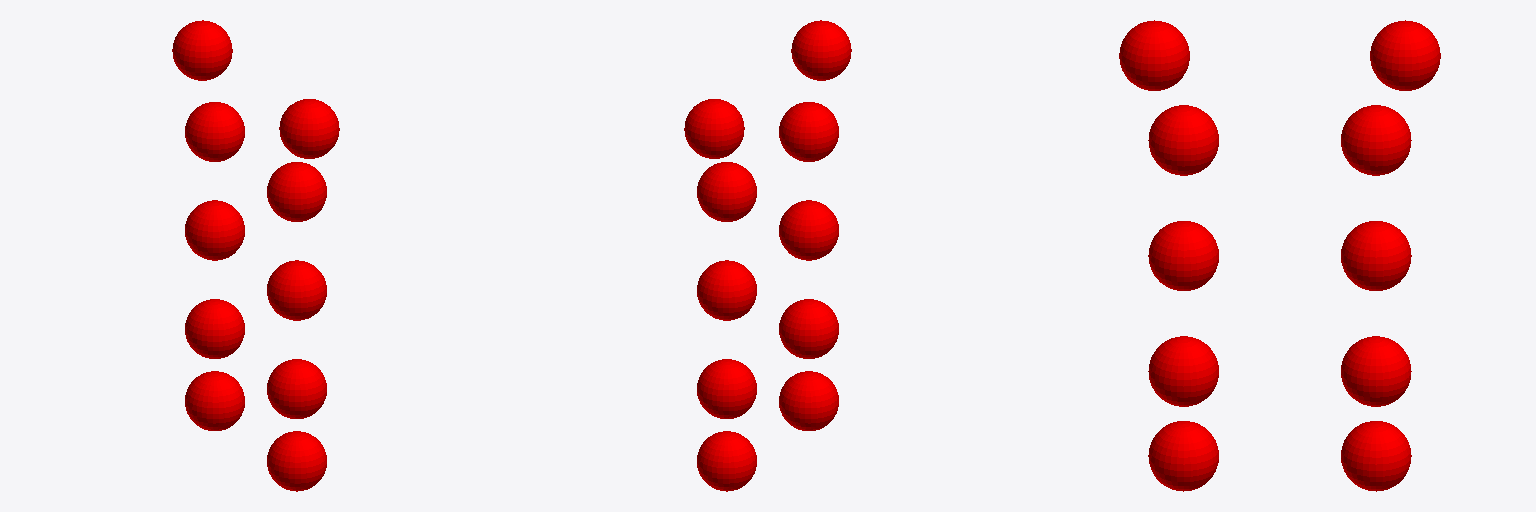
URDF robot description (urdf_ugot_human):
<?xml version="1.0" encoding="utf-8"?>
<robot
  name="urdf_ugot_human">
  <link name="world"/>
  <link
    name="base_link">
  </link>
  <joint name="floating_joint" type="floating"> <!--添加虚拟关节，将机器人模型连接到世界上的固定点-->
    <parent link="world"/>
    <child link="base_link"/> <!--起始位置设为(0, 0, 0)，与父链接原点重合-->
    <origin xyz="0 0 0" rpy="0 0 0"/>
  </joint>
  <link
    name="left_hip_roll_link">
    <visual>
      <geometry>
        <sphere radius="0.02"/>
      </geometry>
      <origin rpy="0 0 0" xyz="0 0 0"/>
      <material name="red">
        <color rgba="1.0 0.0 0.0 1.0"/>
      </material>
    </visual>
  </link>
  <joint
    name="left_hip_roll_joint"
    type="revolute">
    <origin
      xyz="0 0.0708 0"
      rpy="0 0 0" />
    <parent
      link="base_link" />
    <child
      link="left_hip_roll_link" />
    <axis
      xyz="1 0 0" />
    <limit
      lower="-3.14"
      upper="3.14"
      effort="1000"
      velocity="1000" />
  </joint>
  <link
    name="left_hip_pitch_link">
    <visual>
      <geometry>
        <sphere radius="0.02"/>
      </geometry>
      <origin rpy="0 0 0" xyz="0 0 0"/>
      <material name="red">
        <color rgba="1.0 0.0 0.0 1.0"/>
      </material>
    </visual>
  </link>
  <joint
    name="left_hip_pitch_joint"
    type="revolute">
    <origin
      xyz="0 -0.0165 -0.0527"
      rpy="0 0 0" />
    <parent
      link="left_hip_roll_link" />
    <child
      link="left_hip_pitch_link" />
    <axis
      xyz="0 1 0" />
    <limit
      lower="-3.14"
      upper="3.14"
      effort="1000"
      velocity="1000" />
  </joint>
  <link
    name="left_knee_pitch_link">
    <visual>
      <geometry>
        <sphere radius="0.02"/>
      </geometry>
      <origin rpy="0 0 0" xyz="0 0 0"/>
      <material name="red">
        <color rgba="1.0 0.0 0.0 1.0"/>
      </material>
    </visual>
  </link>
  <joint
    name="left_knee_pitch_joint"
    type="revolute">
    <origin
      xyz="0 0 -0.072"
      rpy="0 0 0" />
    <parent
      link="left_hip_pitch_link" />
    <child
      link="left_knee_pitch_link" />
    <axis
      xyz="0 1 0" />
    <limit
      lower="-3.14"
      upper="3.14"
      effort="1000"
      velocity="1000" />
  </joint>
  <link
    name="left_ankle_pitch_link">
    <visual>
      <geometry>
        <sphere radius="0.02"/>
      </geometry>
      <origin rpy="0 0 0" xyz="0 0 0"/>
      <material name="red">
        <color rgba="1.0 0.0 0.0 1.0"/>
      </material>
    </visual>
  </link>
  <joint
    name="left_ankle_pitch_joint"
    type="revolute">
    <origin
      xyz="0 0 -0.072"
      rpy="0 0 0" />
    <parent
      link="left_knee_pitch_link" />
    <child
      link="left_ankle_pitch_link" />
    <axis
      xyz="0 1 0" />
    <limit
      lower="-3.14"
      upper="3.14"
      effort="1000"
      velocity="1000" />
  </joint>
  <link
    name="left_ankle_roll_link">
    <visual>
      <geometry>
        <sphere radius="0.02"/>
      </geometry>
      <origin rpy="0 0 0" xyz="0 0 0"/>
      <material name="red">
        <color rgba="1.0 0.0 0.0 1.0"/>
      </material>
    </visual>
  </link>
  <joint
    name="left_ankle_roll_joint"
    type="revolute">
    <origin
      xyz="0 0 -0.0527"
      rpy="0 0 0" />
    <parent
      link="left_ankle_pitch_link" />
    <child
      link="left_ankle_roll_link" />
    <axis
      xyz="1 0 0" />
    <limit
      lower="-3.14"
      upper="3.14"
      effort="1000"
      velocity="1000" />
  </joint>
  
  <link
    name="right_hip_roll_link">
    <visual>
      <geometry>
        <sphere radius="0.02"/>
      </geometry>
      <origin rpy="0 0 0" xyz="0 0 0"/>
      <material name="red">
        <color rgba="1.0 0.0 0.0 1.0"/>
      </material>
    </visual>
  </link>
  <joint
    name="right_hip_roll_joint"
    type="revolute">
    <origin
      xyz="0 -0.0708 0"
      rpy="0 0 0" />
    <parent
      link="base_link" />
    <child
      link="right_hip_roll_link" />
    <axis
      xyz="1 0 0" />
    <limit
      lower="-3.14"
      upper="3.14"
      effort="1000"
      velocity="1000" />
  </joint>
  <link
    name="right_hip_pitch_link">
    <visual>
      <geometry>
        <sphere radius="0.02"/>
      </geometry>
      <origin rpy="0 0 0" xyz="0 0 0"/>
      <material name="red">
        <color rgba="1.0 0.0 0.0 1.0"/>
      </material>
    </visual>
  </link>
  <joint
    name="right_hip_pitch_joint"
    type="revolute">
    <origin
      xyz="0 0.0165 -0.0527"
      rpy="0 0 0" />
    <parent
      link="right_hip_roll_link" />
    <child
      link="right_hip_pitch_link" />
    <axis
      xyz="0 1 0" />
    <limit
      lower="-3.14"
      upper="3.14"
      effort="1000"
      velocity="1000" />
  </joint>
  <link
    name="right_knee_pitch_link">
    <visual>
      <geometry>
        <sphere radius="0.02"/>
      </geometry>
      <origin rpy="0 0 0" xyz="0 0 0"/>
      <material name="red">
        <color rgba="1.0 0.0 0.0 1.0"/>
      </material>
    </visual>
  </link>
  <joint
    name="right_knee_pitch_joint"
    type="revolute">
    <origin
      xyz="0 0 -0.072"
      rpy="0 0 0" />
    <parent
      link="right_hip_pitch_link" />
    <child
      link="right_knee_pitch_link" />
    <axis
      xyz="0 1 0" />
    <limit
      lower="-3.14"
      upper="3.14"
      effort="1000"
      velocity="1000" />
  </joint>
  <link
    name="right_ankle_pitch_link">
    <visual>
      <geometry>
        <sphere radius="0.02"/>
      </geometry>
      <origin rpy="0 0 0" xyz="0 0 0"/>
      <material name="red">
        <color rgba="1.0 0.0 0.0 1.0"/>
      </material>
    </visual>
  </link>
  <joint
    name="right_ankle_pitch_joint"
    type="revolute">
    <origin
      xyz="0 0 -0.072"
      rpy="0 0 0" />
    <parent
      link="right_knee_pitch_link" />
    <child
      link="right_ankle_pitch_link" />
    <axis
      xyz="0 1 0" />
    <limit
      lower="-3.14"
      upper="3.14"
      effort="1000"
      velocity="1000" />
  </joint>
  <link
    name="right_ankle_roll_link">
    <visual>
      <geometry>
        <sphere radius="0.02"/>
      </geometry>
      <origin rpy="0 0 0" xyz="0 0 0"/>
      <material name="red">
        <color rgba="1.0 0.0 0.0 1.0"/>
      </material>
    </visual>
  </link>
  <joint
    name="right_ankle_roll_joint"
    type="revolute">
    <origin
      xyz="0 0 -0.0527"
      rpy="0 0 0" />
    <parent
      link="right_ankle_pitch_link" />
    <child
      link="right_ankle_roll_link" />
    <axis
      xyz="1 0 0" />
    <limit
      lower="-3.14"
      upper="3.14"
      effort="1000"
      velocity="1000" />
  </joint>
</robot>
    

--- Facts derived from the render (not from the file) ---
The picture shows the robot from 3 angles, left to right: view 1: azimuth 30°, elevation 25°; view 2: azimuth 150°, elevation 25°; view 3: azimuth 270°, elevation 25°; orthographic projection.
Model urdf_ugot_human with 12 links and 11 joints (10 revolute, 1 floating), rooted at world, posed all joints at 0.
Links seen in each view (by area): view 1: right_knee_pitch_link, right_ankle_pitch_link, right_ankle_roll_link, left_hip_pitch_link, left_ankle_roll_link, right_hip_pitch_link, left_hip_roll_link, left_knee_pitch_link, left_ankle_pitch_link, right_hip_roll_link; view 2: left_knee_pitch_link, left_ankle_pitch_link, left_ankle_roll_link, left_hip_pitch_link, right_hip_pitch_link, right_ankle_roll_link, right_hip_roll_link, right_knee_pitch_link, right_ankle_pitch_link, left_hip_roll_link; view 3: left_hip_pitch_link, left_ankle_pitch_link, right_hip_pitch_link, right_ankle_pitch_link, left_hip_roll_link, right_hip_roll_link, left_ankle_roll_link, right_ankle_roll_link, left_knee_pitch_link, right_knee_pitch_link.
Boxes of the visible links, x1=… form: right_knee_pitch_link: x1=267, y1=260, x2=326, y2=320; right_ankle_pitch_link: x1=267, y1=359, x2=326, y2=418; right_ankle_roll_link: x1=267, y1=431, x2=326, y2=491; left_hip_pitch_link: x1=185, y1=102, x2=244, y2=161; left_ankle_roll_link: x1=185, y1=371, x2=244, y2=430; right_hip_pitch_link: x1=267, y1=162, x2=326, y2=221; left_hip_roll_link: x1=172, y1=20, x2=232, y2=80; left_knee_pitch_link: x1=185, y1=200, x2=244, y2=260; left_ankle_pitch_link: x1=185, y1=299, x2=244, y2=358; right_hip_roll_link: x1=279, y1=99, x2=339, y2=158; left_knee_pitch_link: x1=697, y1=260, x2=756, y2=320; left_ankle_pitch_link: x1=697, y1=359, x2=756, y2=418; left_ankle_roll_link: x1=697, y1=431, x2=756, y2=491; left_hip_pitch_link: x1=697, y1=162, x2=756, y2=221; right_hip_pitch_link: x1=779, y1=102, x2=838, y2=161; right_ankle_roll_link: x1=779, y1=371, x2=838, y2=430; right_hip_roll_link: x1=791, y1=20, x2=851, y2=80; right_knee_pitch_link: x1=779, y1=200, x2=838, y2=260; right_ankle_pitch_link: x1=779, y1=299, x2=838, y2=358; left_hip_roll_link: x1=684, y1=99, x2=744, y2=158; left_hip_pitch_link: x1=1341, y1=105, x2=1411, y2=175; left_ankle_pitch_link: x1=1341, y1=336, x2=1411, y2=406; right_hip_pitch_link: x1=1148, y1=105, x2=1218, y2=175; right_ankle_pitch_link: x1=1148, y1=336, x2=1218, y2=406; left_hip_roll_link: x1=1370, y1=20, x2=1440, y2=90; right_hip_roll_link: x1=1119, y1=20, x2=1189, y2=90; left_ankle_roll_link: x1=1341, y1=421, x2=1411, y2=491; right_ankle_roll_link: x1=1148, y1=421, x2=1218, y2=491; left_knee_pitch_link: x1=1341, y1=221, x2=1411, y2=290; right_knee_pitch_link: x1=1148, y1=221, x2=1218, y2=290.
Size in the robot's own frame: 0.04 by 0.1816 by 0.2894 metres.
Geometry: primitives only (box / cylinder / sphere), no mesh files.